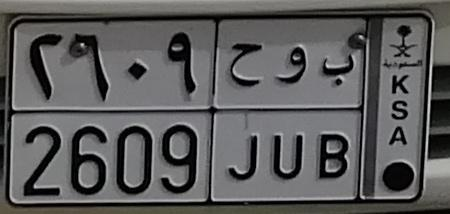0: (115, 59, 154, 197)
2: (21, 31, 64, 197)
6: (70, 33, 109, 195)
9: (160, 29, 200, 195)
B: (317, 52, 355, 181)
J: (227, 41, 264, 182)
U: (272, 44, 309, 180)
